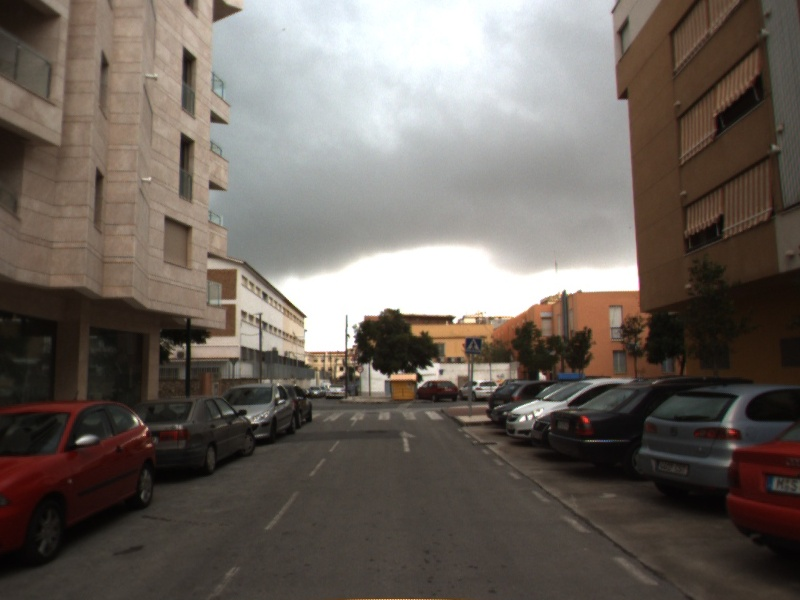STRAIGHT: (397, 428, 420, 454)
